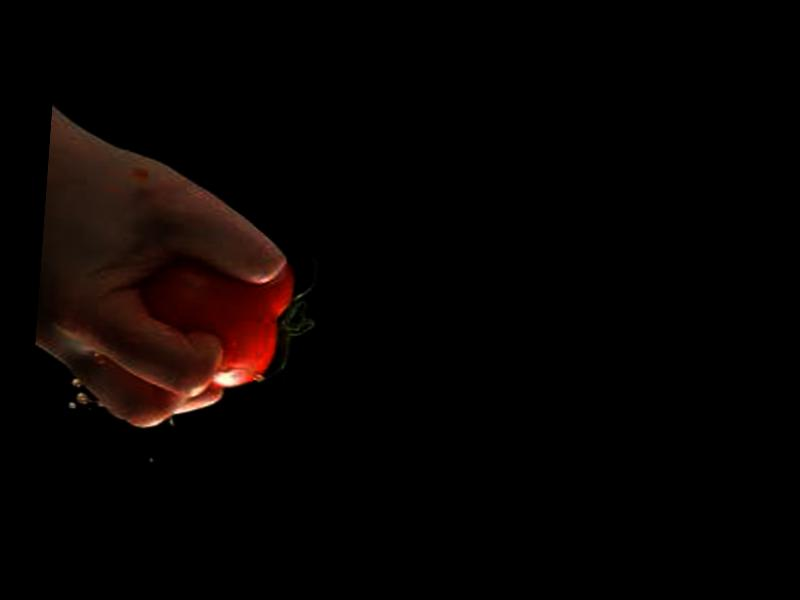Tomato: (135, 251, 296, 391)
